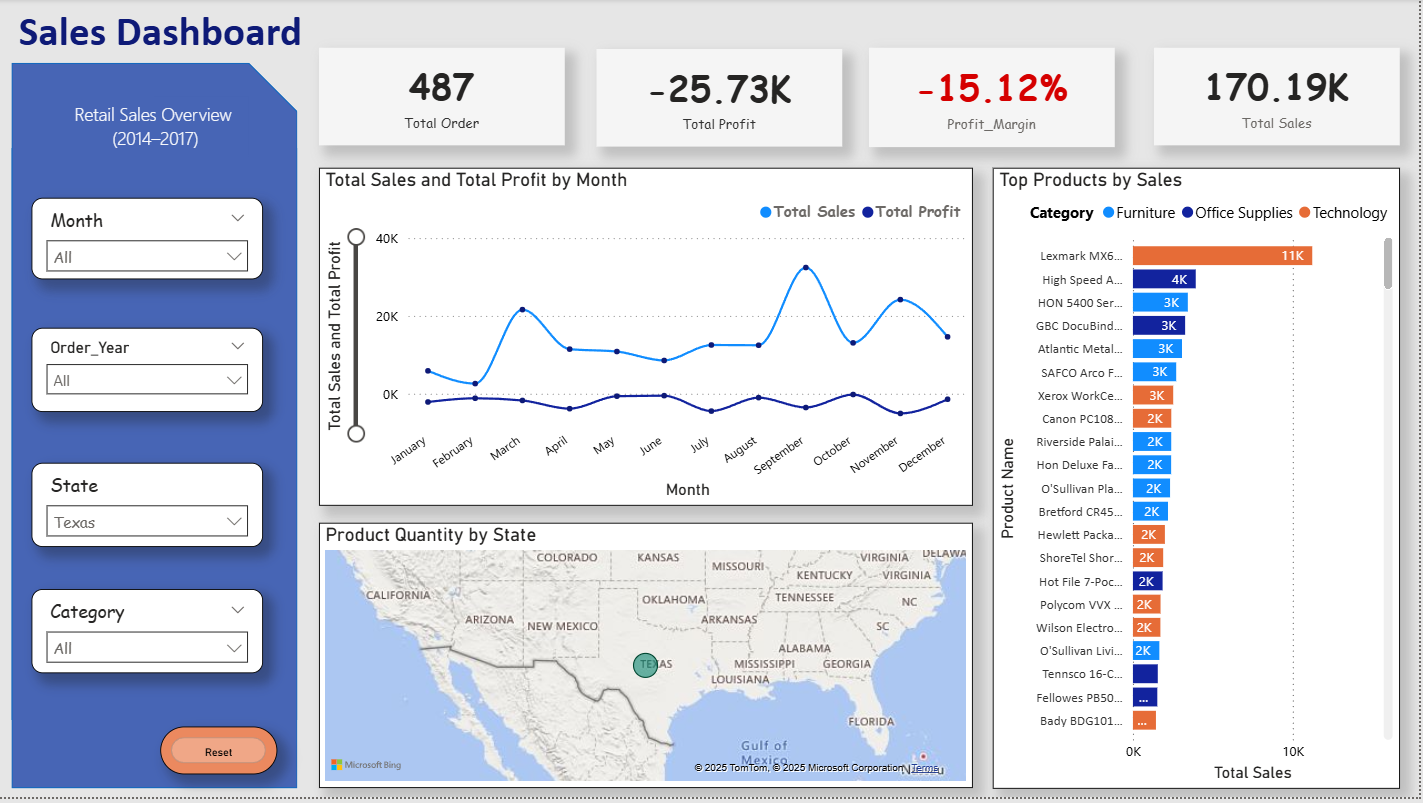

The page's visual inventory and layout, read from the dashboard file:
{"tool":"powerbi","page":{"name":"Page 1","canvas":[1280,720],"ordinal":0},"visuals":[{"type":"shape","box":[10.7,57.8,257.9,654.2],"z":0},{"type":"card","fields":{"Values":["Sum(superstore sales_data.Sales)"]},"box":[1041.2,43.5,221.4,88.3],"z":1000},{"type":"card","fields":{"Values":["sales_data.Profit_Margin"]},"box":[784.9,43.5,221.4,89.6],"z":2000},{"type":"card","fields":{"Values":["Count(superstore sales_data.Order_ID)"]},"box":[288.6,43.5,221.4,88.3],"z":3000},{"type":"card","fields":{"Values":["Sum(superstore sales_data.Profit)"]},"box":[538.6,44.8,221.4,88.3],"z":4000},{"type":"textbox","box":[11.2,1.2,268.7,56],"z":5000},{"type":"lineChart","title":"Total Sales and Total Profit by Month","fields":{"Y":["Sum(sales_data.Sales)","Sum(sales_data.Profit)"],"Category":["sales_data.Order_Date.Variation.Date Hierarchy.Month"]},"box":[288.6,151.8,589.6,304.8],"z":6000},{"type":"map","title":"Product Quantity by State ","fields":{"Size":["Sum(sales_data.Quantity)"],"Category":["sales_data.State"]},"box":[288.6,472.7,589.6,238.8],"z":7000},{"type":"barChart","title":"Top Products by Sales","fields":{"Category":["sales_data.Product_Name"],"Y":["Sum(sales_data.Sales)"],"Series":["sales_data.Category"]},"box":[895.7,151.8,367,559.8],"z":8000},{"type":"slicer","fields":{"Values":["sales_data.Order_Month_Number"]},"box":[29.9,179.1,209,73.4],"z":9000},{"type":"slicer","fields":{"Values":["sales_data.Order_Year"]},"box":[29.9,296.1,209,75.9],"z":10000},{"type":"slicer","fields":{"Values":["sales_data.State"]},"box":[29.9,418,209,75.9],"z":11000},{"type":"slicer","fields":{"Values":["sales_data.Sub_Category"]},"box":[29.9,532.4,209,75.9],"z":12000},{"type":"textbox","box":[41.8,88.1,185.2,72.3],"z":13000},{"type":"actionButton","title":"Reset","box":[145.5,655.6,105.7,43.5],"z":14000}]}

Visuals, with their boxes in screenshot pixels (x1, y1, x2, y2), scaled from the page's 1280x720 canvas onto the 1423x803 screenshot:
shape: 12,64,299,794
card - Sum(superstore sales_data.Sales): 1158,49,1404,147
card - sales_data.Profit_Margin: 873,49,1119,148
card - Count(superstore sales_data.Order_ID): 321,49,567,147
card - Sum(superstore sales_data.Profit): 599,50,845,148
textbox: 12,1,311,64
"Total Sales and Total Profit by Month" lineChart: 321,169,976,509
"Product Quantity by State " map: 321,527,976,794
"Top Products by Sales" barChart: 996,169,1404,794
slicer - sales_data.Order_Month_Number: 33,200,266,282
slicer - sales_data.Order_Year: 33,330,266,415
slicer - sales_data.State: 33,466,266,551
slicer - sales_data.Sub_Category: 33,594,266,678
textbox: 46,98,252,179
"Reset" actionButton: 162,731,279,780
